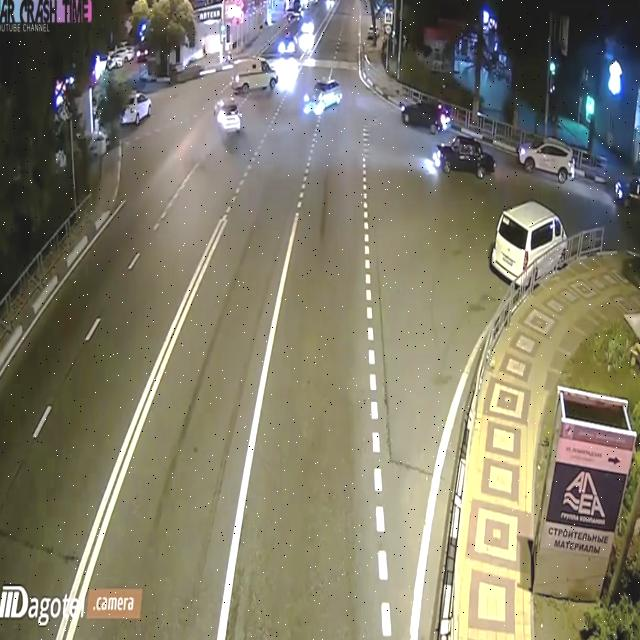accident: (298, 69, 346, 127)
